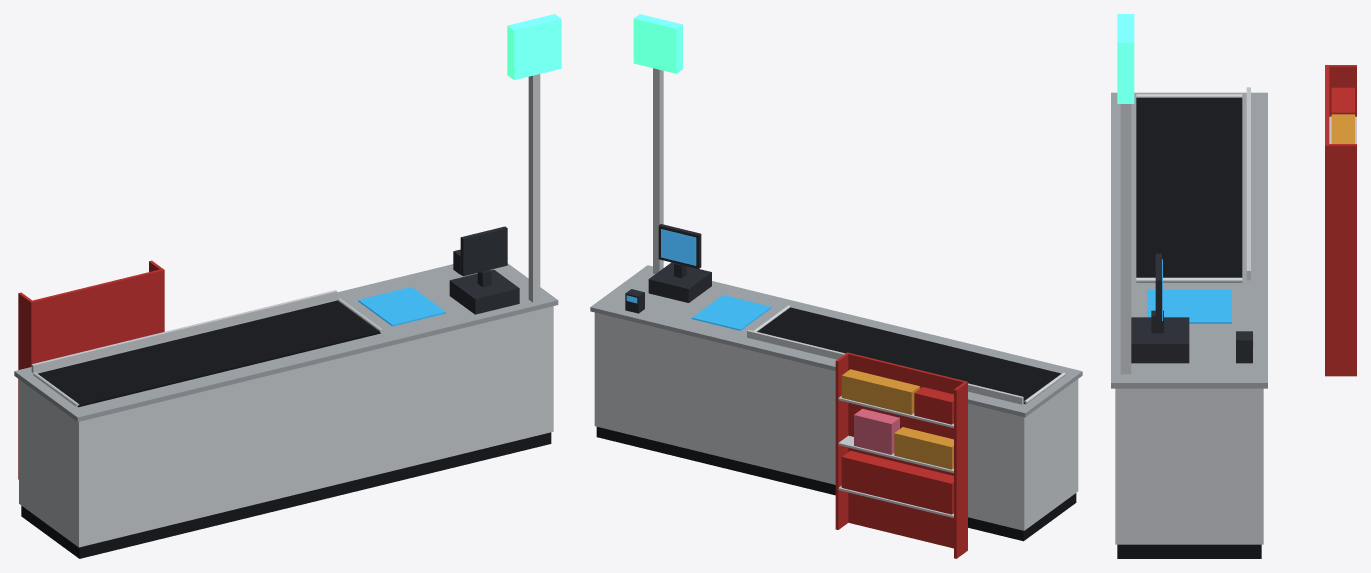
File: checkout_counter.glb
The picture shows the model from 3 angles, left to right: view 1: azimuth 30°, elevation 25°; view 2: azimuth 150°, elevation 25°; view 3: azimuth 270°, elevation 25°; orthographic projection. The views are drawn at different scales.
Parts seen in each view (by area): view 1: counter_white, belt_black, counter_steel, sale_red, chrome, register_dark, lane_light, scanner_glass; view 2: counter_white, belt_black, sale_red, counter_steel, stock_red, chrome, stock_orange, register_dark, lane_light, stock_pink, scanner_glass, screen; view 3: counter_white, belt_black, counter_steel, sale_red, chrome, register_dark, scanner_glass, lane_light, stock_orange, stock_red.
Part boxes in pixels (<box>): counter_white: <box>19,306,553,547</box>; belt_black: <box>21,300,551,558</box>; counter_steel: <box>14,263,558,421</box>; sale_red: <box>18,260,164,479</box>; chrome: <box>31,74,540,407</box>; register_dark: <box>449,226,519,314</box>; lane_light: <box>507,14,561,80</box>; scanner_glass: <box>358,287,445,326</box>; counter_white: <box>594,312,1078,530</box>; belt_black: <box>596,307,1076,541</box>; sale_red: <box>835,352,967,558</box>; counter_steel: <box>590,265,1082,417</box>; stock_red: <box>841,387,953,514</box>; chrome: <box>653,68,1065,518</box>; stock_orange: <box>841,369,953,469</box>; register_dark: <box>625,224,711,313</box>; lane_light: <box>633,14,682,73</box>; stock_pink: <box>854,408,899,454</box>; scanner_glass: <box>692,295,771,330</box>; screen: <box>626,229,696,303</box>; counter_white: <box>1115,388,1263,544</box>; belt_black: <box>1117,97,1261,558</box>; counter_steel: <box>1111,92,1267,388</box>; sale_red: <box>1325,65,1356,376</box>; chrome: <box>1120,87,1356,374</box>; register_dark: <box>1131,253,1252,363</box>; scanner_glass: <box>1147,289,1231,323</box>; lane_light: <box>1117,14,1134,103</box>; stock_orange: <box>1331,114,1354,143</box>; stock_red: <box>1331,87,1354,114</box>.
Bounding box in the file's own units: 3.28 × 2.72 × 1.16.
